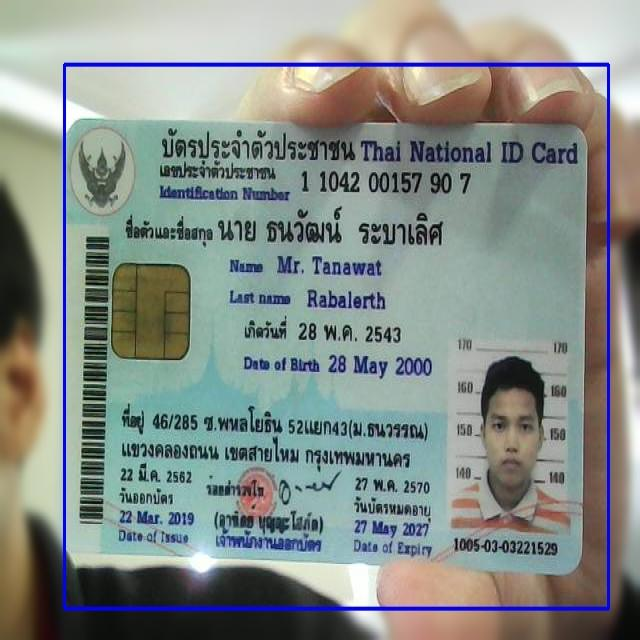Address_th: (112, 397, 439, 479)
Date_of_Birth: (325, 347, 436, 385)
Date_of_Expiry: (352, 516, 432, 540)
Date_of_Issue: (115, 507, 204, 532)
First_Name: (272, 250, 385, 280)
ID_Number: (299, 167, 477, 198)
Image: (448, 337, 570, 535)
Last_Name: (305, 284, 388, 314)
Thai_Name: (215, 201, 461, 255)
